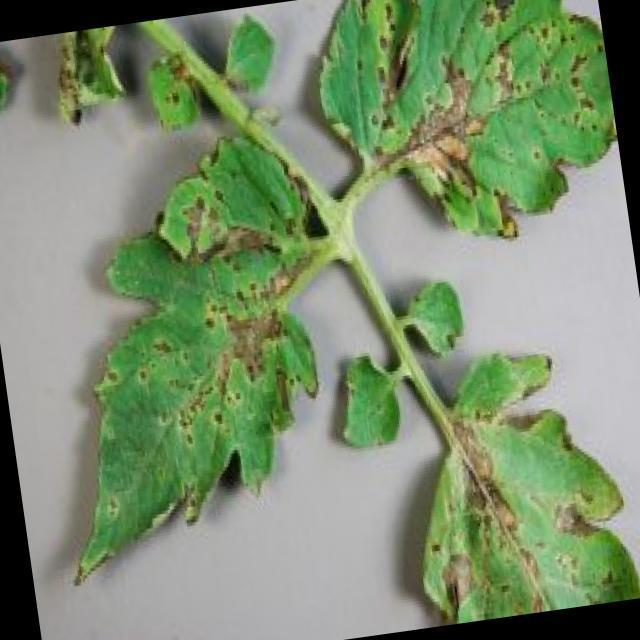Bacterial Spot: (111, 182, 326, 460), (339, 23, 606, 201)
